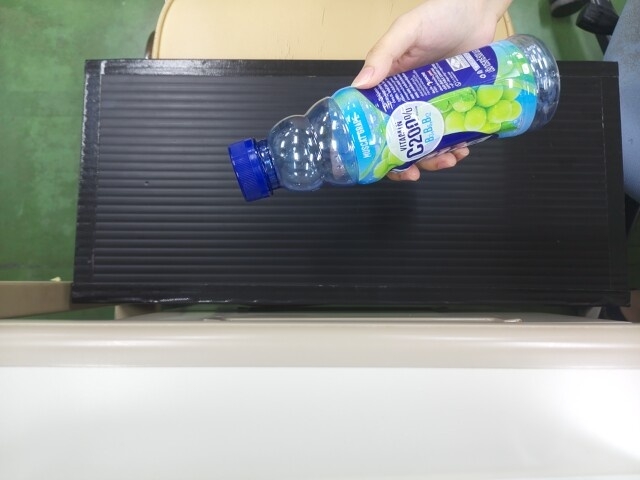plastic_bottle: (225, 70, 561, 191)
